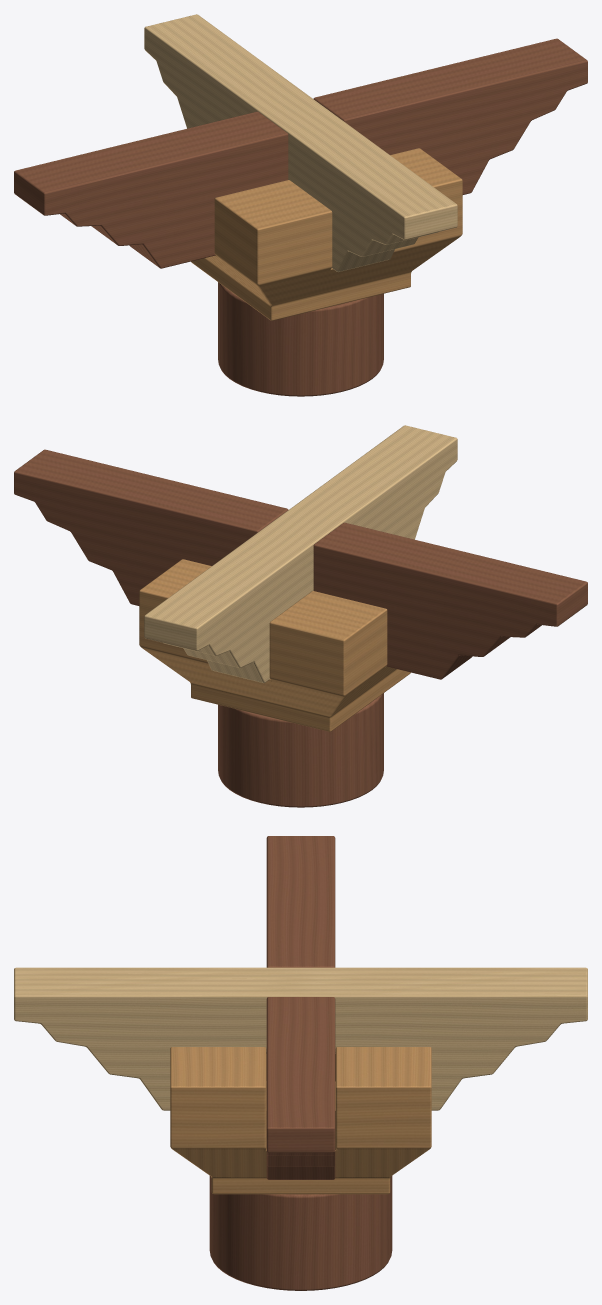
File: out-dou.glb
3 renders of one model, top to bottom at view 1: azimuth 30°, elevation 25°; view 2: azimuth 150°, elevation 25°; view 3: azimuth 270°, elevation 25°, orthographic. The views are drawn at different scales.
Visible parts, largest first — view 1: 横栱 · 上开槽, 出跳木 · 下开槽, 斗底与四耳, 柱头截段; view 2: 横栱 · 上开槽, 出跳木 · 下开槽, 斗底与四耳, 柱头截段; view 3: 出跳木 · 下开槽, 斗底与四耳, 横栱 · 上开槽, 柱头截段.
Part boxes in pixels (x1=…): 横栱 · 上开槽: x1=14, y1=38, x2=587, y2=268; 出跳木 · 下开槽: x1=144, y1=14, x2=457, y2=271; 斗底与四耳: x1=191, y1=148, x2=462, y2=320; 柱头截段: x1=218, y1=282, x2=383, y2=396; 横栱 · 上开槽: x1=14, y1=449, x2=587, y2=679; 出跳木 · 下开槽: x1=144, y1=425, x2=457, y2=682; 斗底与四耳: x1=139, y1=559, x2=410, y2=731; 柱头截段: x1=218, y1=693, x2=383, y2=807; 出跳木 · 下开槽: x1=14, y1=967, x2=587, y2=1110; 斗底与四耳: x1=170, y1=1047, x2=431, y2=1194; 横栱 · 上开槽: x1=266, y1=836, x2=335, y2=1179; 柱头截段: x1=209, y1=1176, x2=392, y2=1290.
Size of the model in its own units: 1.82 by 0.79 by 1.51.
3 materials, 3 textured.
